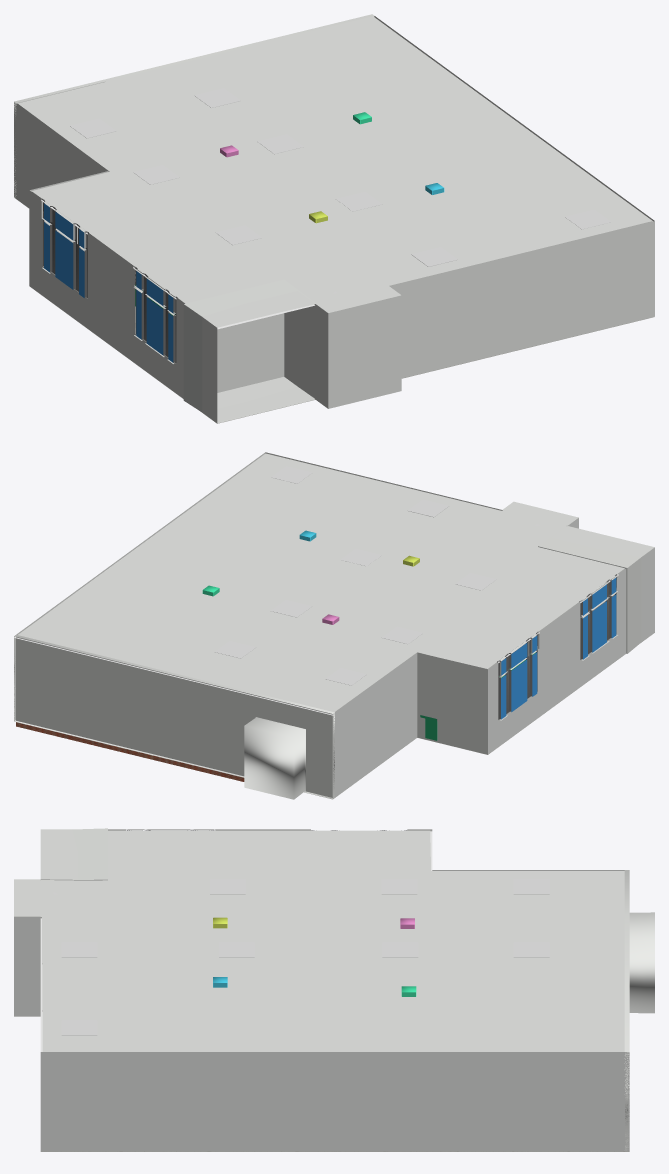
File: aula-terminada.fbx
3 renders of one model, top to bottom at view 1: azimuth 30°, elevation 25°; view 2: azimuth 150°, elevation 25°; view 3: azimuth 270°, elevation 25°, orthographic. The views are drawn at different scales.
Parts seen in each view (by area): view 1: Cube, Cube.044, Cube.007; view 2: Cube, Cube.044, Cube.007, Cube.008, Cube.042, Cube.039; view 3: Cube, Cube.046, Cube.047, Cube.049, Cube.050, Cube.051, Cube.052, Cube.039, Cube.048, Cube.053.
Boxes of the visible parts, bbox=[...] form: Cube: bbox=[14, 14, 654, 423]; Cube.044: bbox=[42, 199, 88, 297]; Cube.007: bbox=[135, 267, 177, 362]; Cube: bbox=[14, 452, 654, 799]; Cube.044: bbox=[497, 632, 538, 719]; Cube.007: bbox=[579, 574, 616, 659]; Cube.008: bbox=[16, 722, 244, 781]; Cube.042: bbox=[14, 533, 618, 715]; Cube.039: bbox=[14, 632, 654, 799]; Cube: bbox=[14, 828, 654, 1151]; Cube.046: bbox=[61, 1020, 97, 1035]; Cube.047: bbox=[61, 942, 97, 957]; Cube.049: bbox=[382, 942, 418, 957]; Cube.050: bbox=[513, 942, 549, 957]; Cube.051: bbox=[513, 879, 549, 894]; Cube.052: bbox=[381, 879, 417, 894]; Cube.039: bbox=[41, 1151, 629, 1151]; Cube.048: bbox=[219, 942, 254, 957]; Cube.053: bbox=[210, 879, 245, 894].
Bounding box in the file's own units: 960 × 223 × 1165.
